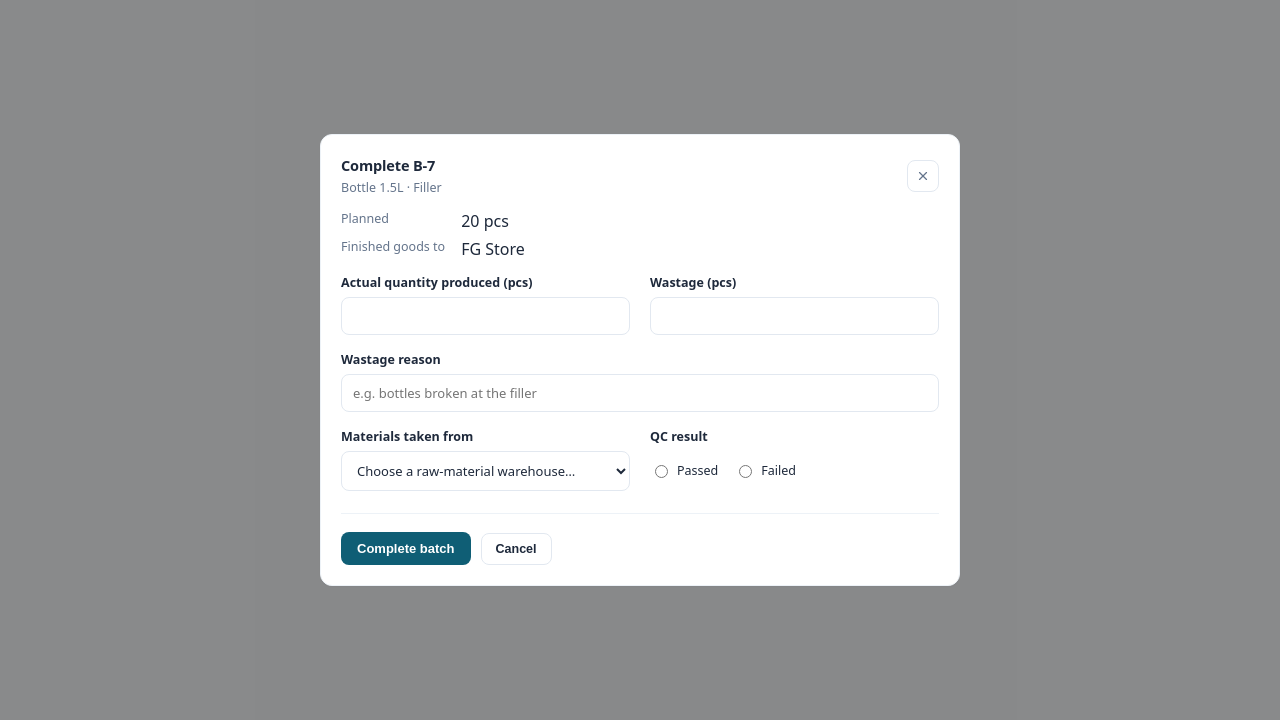
it: Complete batch panel › asks for the variance reason only when the actual differs from the plan
The image size is (1280, 720).
In the number field labelled "Actual quantity produced (pcs)": x=486, y=316 [341,297,630,335], type "20"
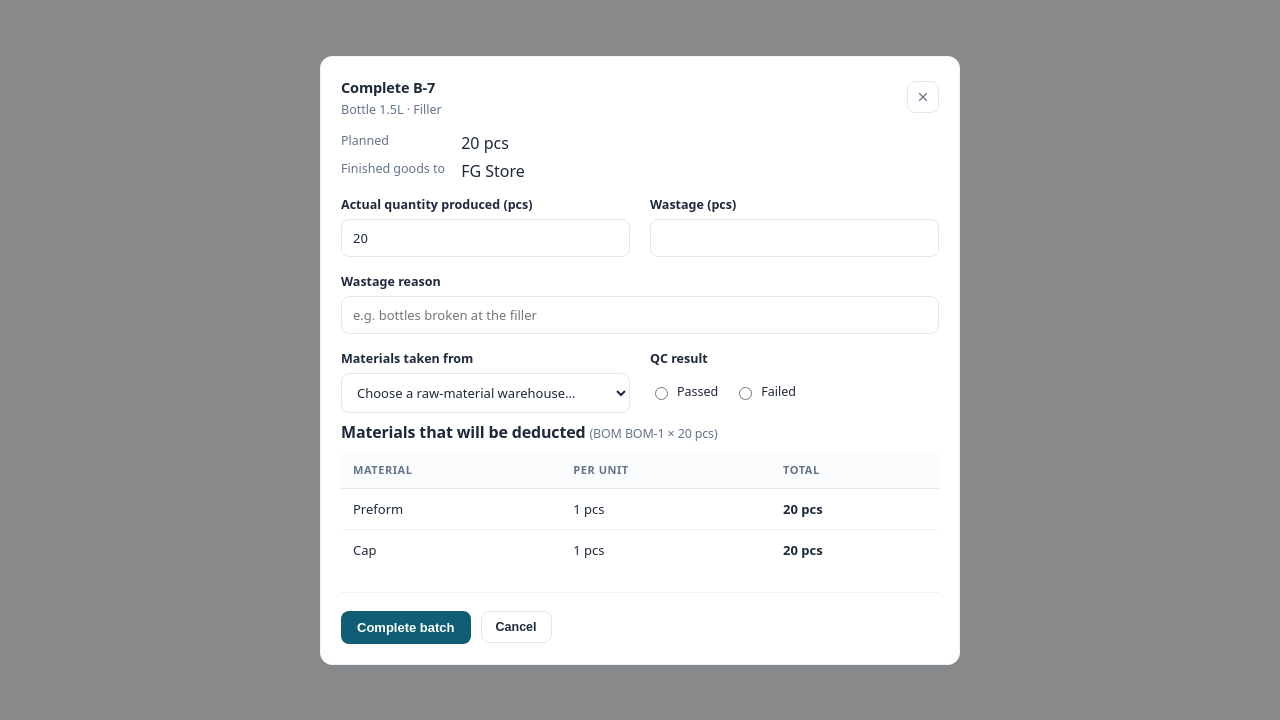
Expected: the field labelled "different from the plan" is not shown
Replace the text in the number field labelled "Actual quantity produced (pcs)" with "19": x=486, y=238 [341,218,630,256]
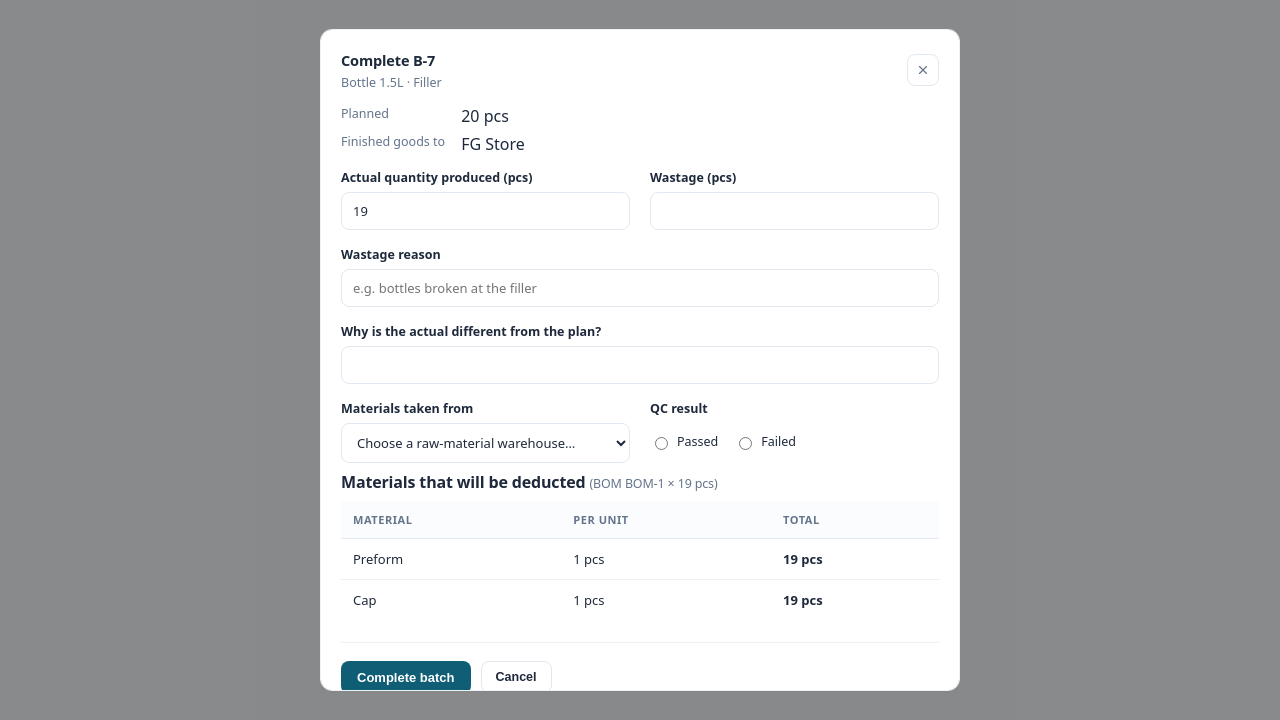
Now the field labelled "Why is the actual different from the plan?" is shown, box [341,346,939,384]
